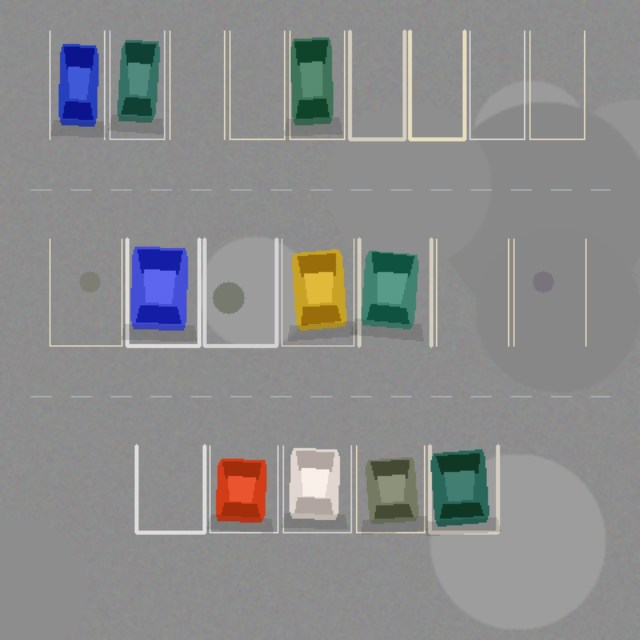space-empty: (49, 239, 121, 345), (204, 239, 276, 345), (436, 239, 508, 345), (513, 239, 585, 345), (169, 31, 224, 139), (229, 31, 284, 139), (349, 31, 404, 139), (409, 31, 464, 139), (469, 31, 524, 139), (529, 31, 584, 139), (136, 445, 204, 532)
space-occupied: (127, 239, 199, 345), (281, 239, 353, 345), (359, 239, 431, 345), (49, 31, 104, 139), (109, 31, 164, 139), (289, 31, 344, 139), (209, 445, 277, 532), (283, 445, 351, 532), (356, 445, 424, 532), (429, 445, 497, 532)
